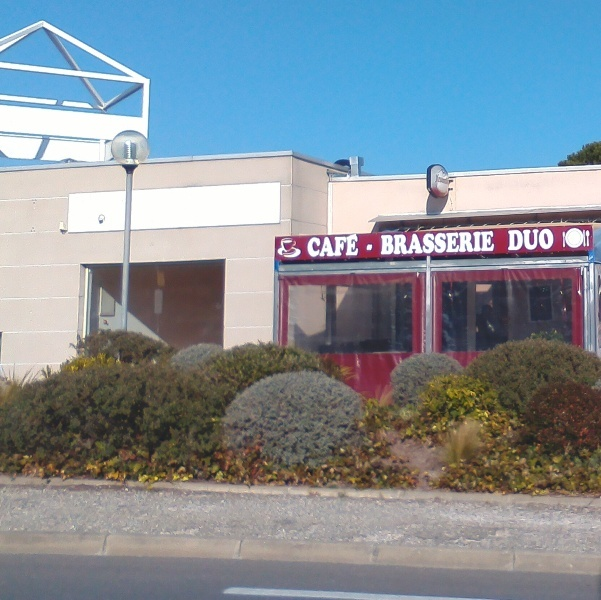text: (321, 233, 336, 259), (337, 233, 352, 259), (385, 231, 400, 256), (401, 231, 416, 256), (417, 231, 432, 256), (433, 231, 448, 256), (449, 231, 464, 256), (465, 231, 480, 256), (481, 231, 495, 256), (513, 228, 528, 251), (529, 228, 544, 251), (307, 233, 320, 259), (545, 228, 555, 251), (435, 173, 448, 186), (353, 233, 359, 259), (507, 228, 512, 251), (380, 231, 384, 256), (449, 173, 450, 186)
